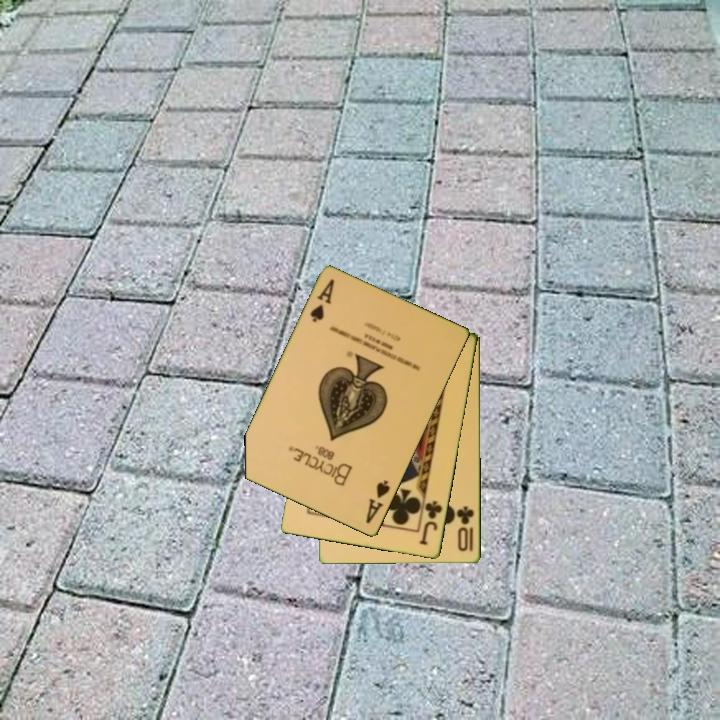10c: (454, 502, 477, 555)
As: (362, 477, 393, 527), (307, 276, 338, 326)
Jc: (416, 497, 446, 548)
